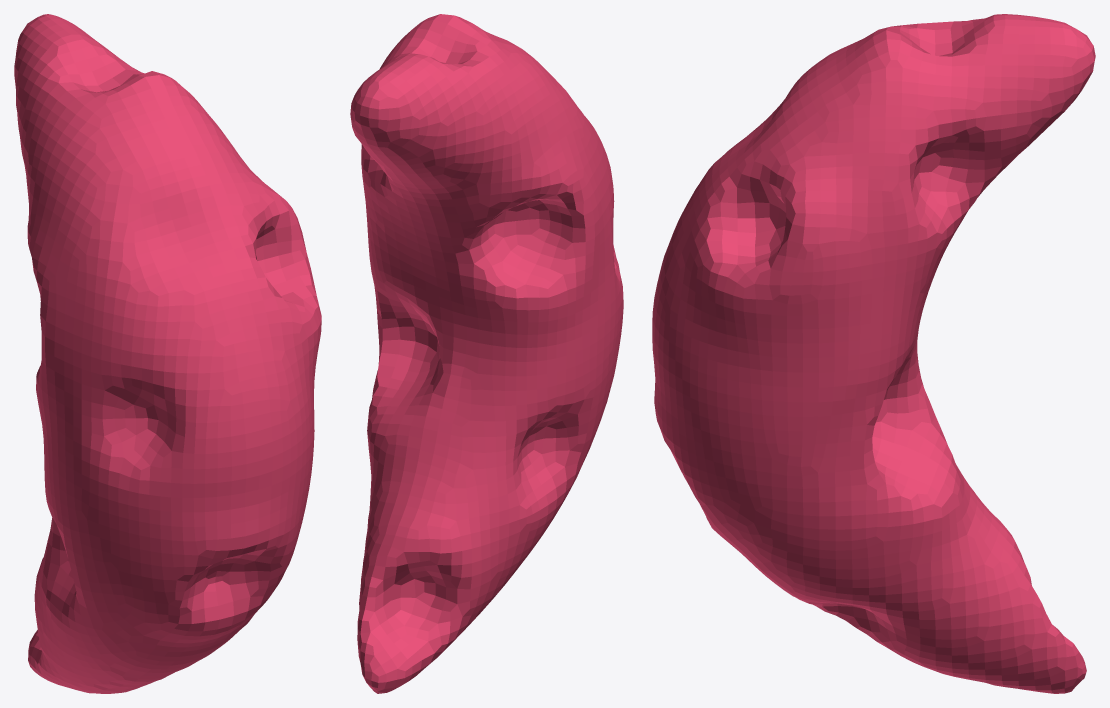
Rendered from pedralua.fbx.
3 renders of one model, left to right at view 1: azimuth 30°, elevation 25°; view 2: azimuth 150°, elevation 25°; view 3: azimuth 270°, elevation 25°, orthographic. The views are drawn at different scales.
Visible parts, largest first — view 1: Icosphere; view 2: Icosphere; view 3: Icosphere.
Boxes of the visible parts, x1,y1,x2,y2 form: Icosphere: (14,14,321,693); Icosphere: (350,14,623,693); Icosphere: (652,14,1095,693).
Size of the model in its own units: 1.72 by 4.47 by 2.68.
